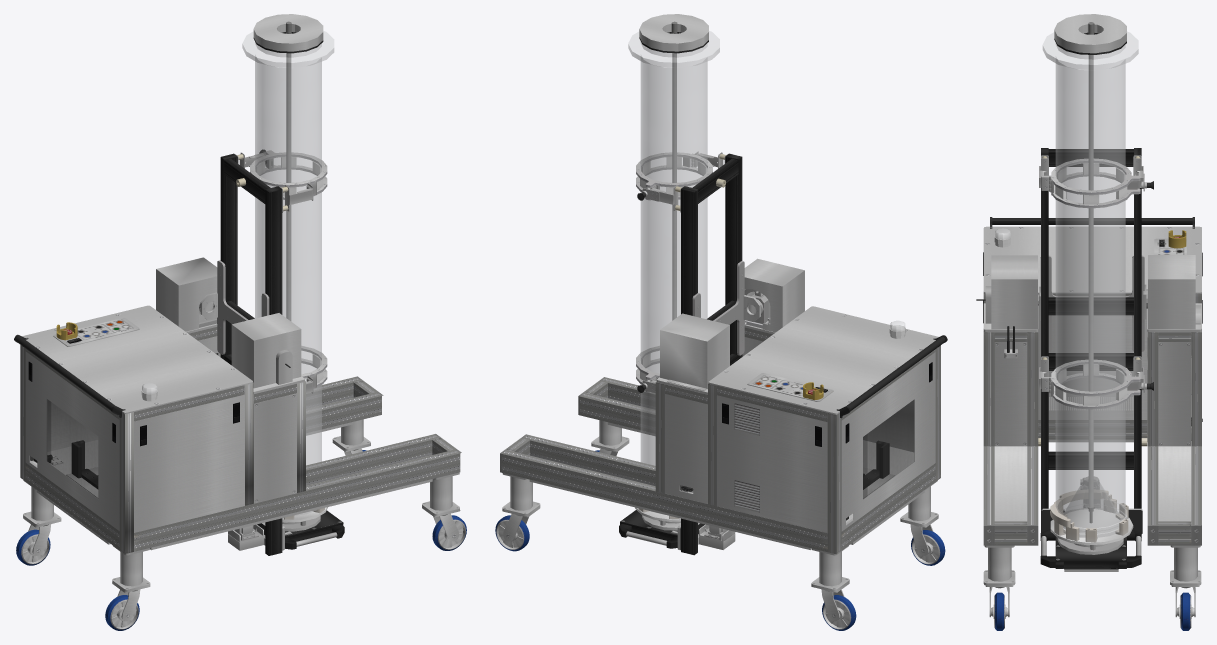
The model's file is CART_UNIT.glb.
3 renders of one model, left to right at view 1: azimuth 30°, elevation 25°; view 2: azimuth 150°, elevation 25°; view 3: azimuth 270°, elevation 25°, orthographic. The views are drawn at different scales.
Parts seen in each view (by area): view 1: CART_01(CART), CART_UNIT_GLASS, CART_02(CART); view 2: CART_01(CART), CART_UNIT_GLASS, CART_02(CART); view 3: CART_01(CART), CART_UNIT_GLASS, CART_02(CART).
Boxes of the visible parts, left/top/right/bottom form: CART_01(CART): left=14, top=14, right=466, bottom=630; CART_UNIT_GLASS: left=46, top=31, right=334, bottom=515; CART_02(CART): left=199, top=149, right=344, bottom=555; CART_01(CART): left=495, top=14, right=947, bottom=630; CART_UNIT_GLASS: left=628, top=31, right=914, bottom=513; CART_02(CART): left=619, top=151, right=770, bottom=555; CART_01(CART): left=983, top=14, right=1202, bottom=630; CART_UNIT_GLASS: left=995, top=31, right=1138, bottom=537; CART_02(CART): left=976, top=148, right=1153, bottom=571.
Size of the model in its own units: 1.59 by 2.21 by 0.83.
Materials: 3 (3 with a texture image).
